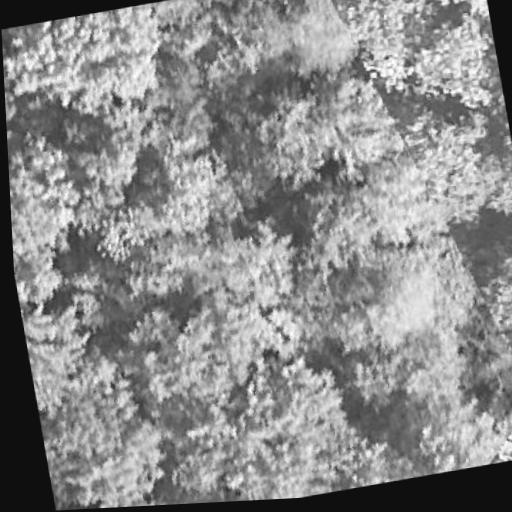tree-top: (318, 234, 490, 425), (157, 348, 367, 503), (69, 100, 242, 261), (1, 1, 177, 126), (248, 71, 407, 203), (125, 280, 263, 414), (36, 379, 170, 511), (377, 381, 512, 482), (181, 217, 306, 320), (401, 108, 501, 229), (156, 0, 287, 92), (7, 128, 87, 277), (402, 0, 504, 111), (20, 296, 100, 415), (295, 182, 388, 284), (361, 151, 448, 254), (343, 0, 441, 89), (271, 0, 358, 78), (469, 231, 512, 366), (381, 0, 487, 19)
